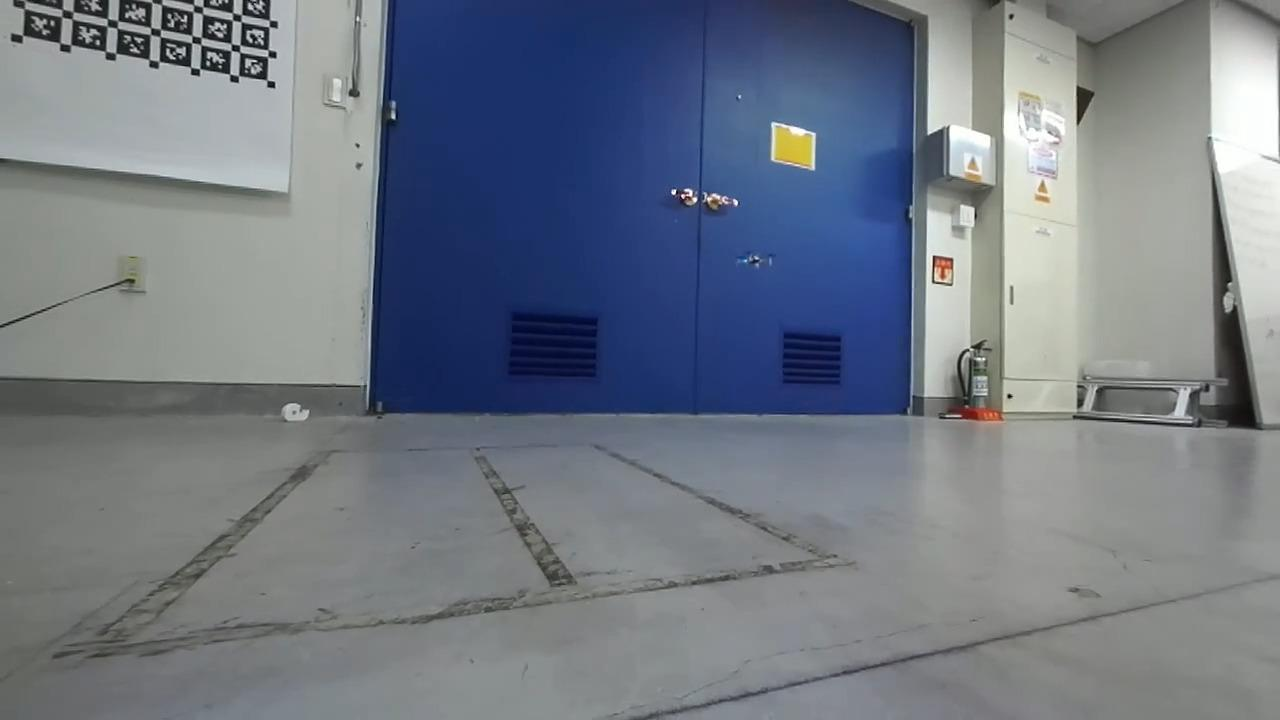crazyflie: (732, 247, 779, 272)
